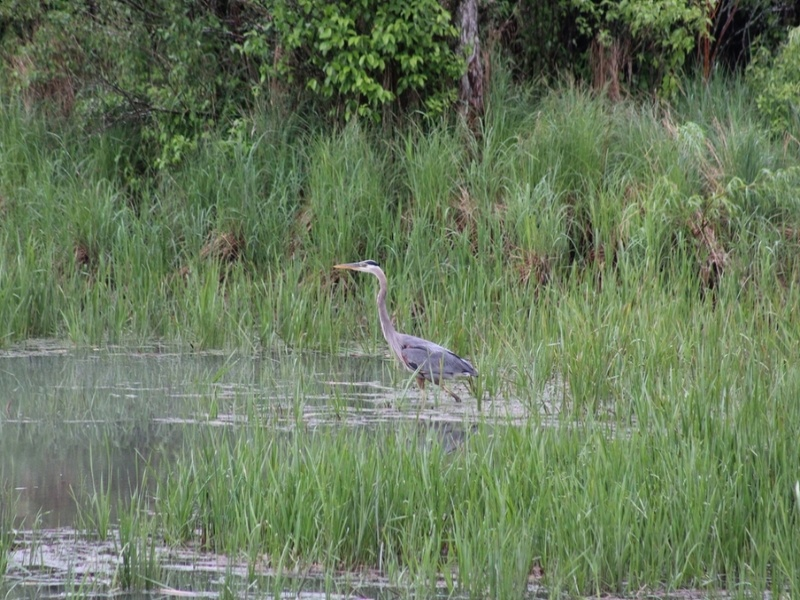heron: (333, 258, 483, 411)
